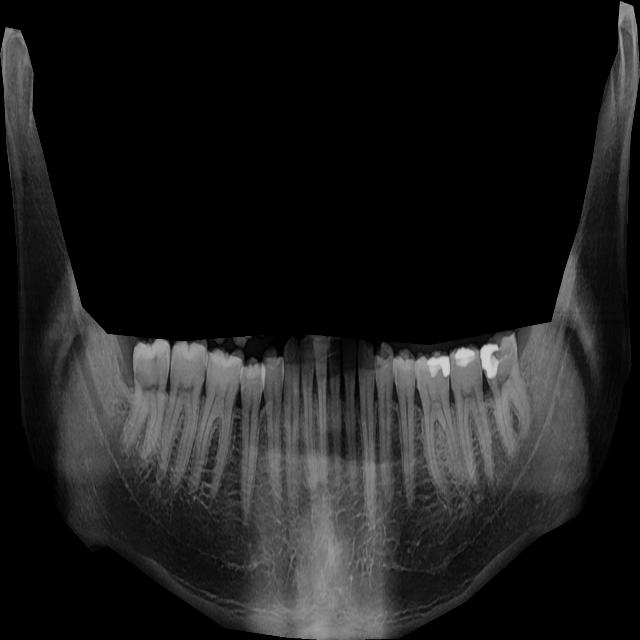mandibula: (0, 1, 640, 640)
